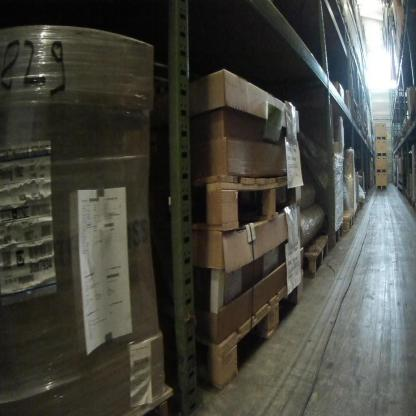pallet: (187, 267, 305, 391), (179, 163, 304, 231), (292, 233, 329, 276), (135, 384, 179, 415), (334, 209, 357, 244), (324, 219, 346, 253), (333, 2, 347, 28), (348, 200, 361, 219), (343, 23, 353, 43), (401, 14, 411, 34), (402, 1, 415, 13), (399, 36, 408, 51), (398, 52, 406, 68), (358, 200, 367, 214), (400, 124, 408, 139), (410, 103, 415, 125), (406, 117, 412, 132), (408, 193, 413, 207), (412, 198, 416, 214)
